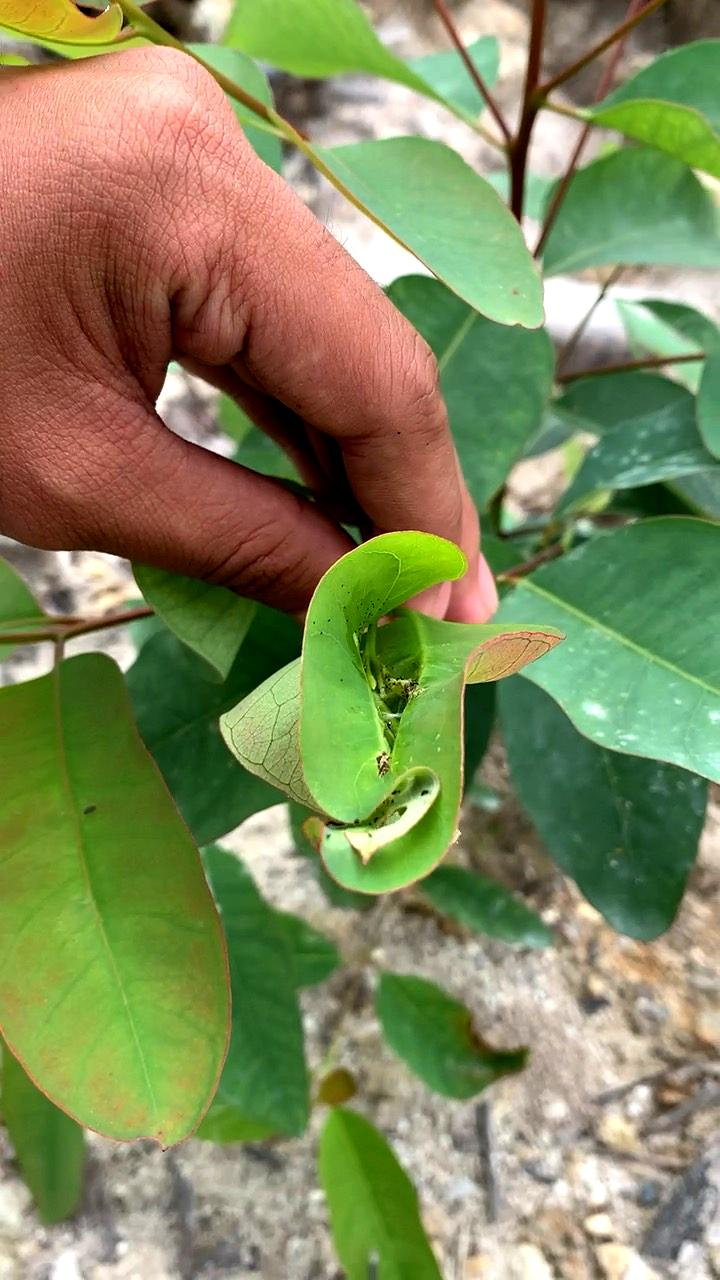Leaf Roller - Leaf: (253, 513, 513, 938)
